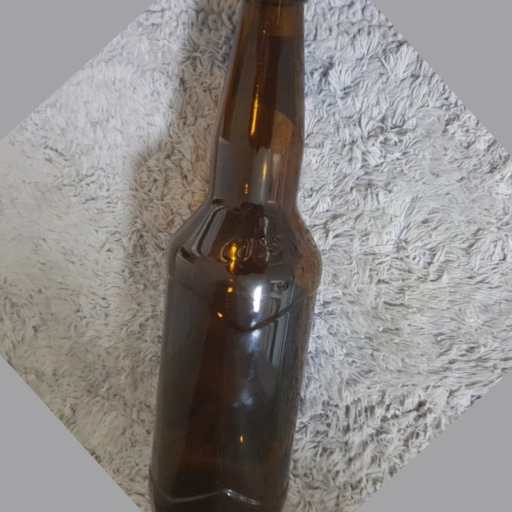Glass_1: (147, 1, 325, 512)
